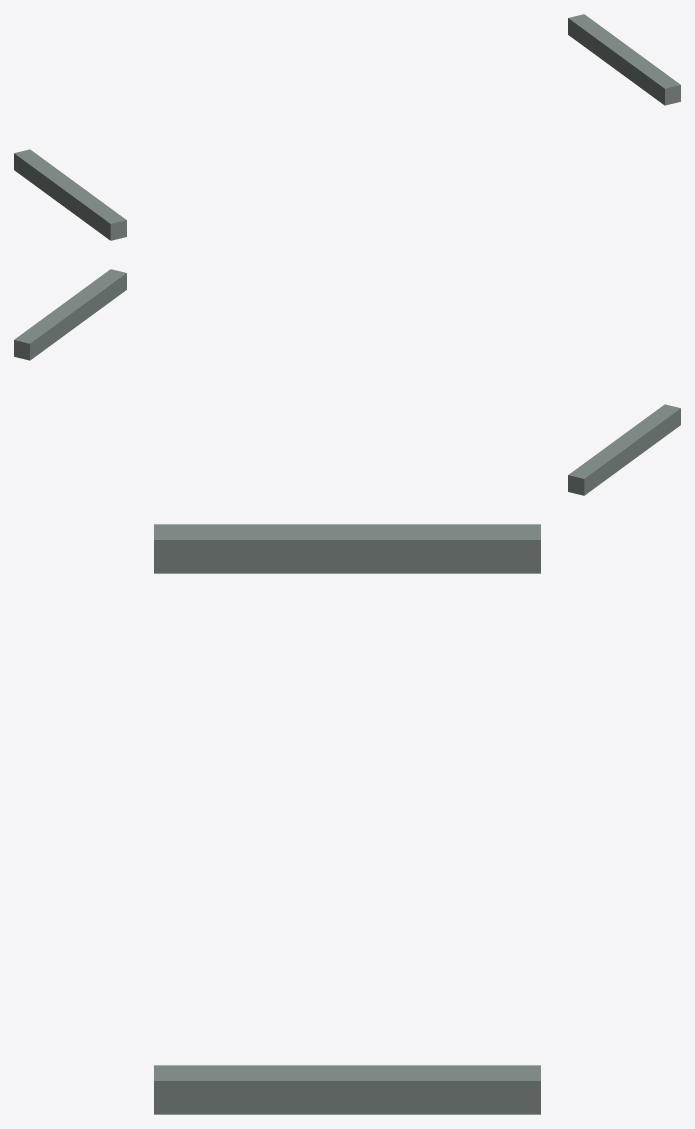
The model's file is Bumper.glb.
The picture shows the model from 3 angles, top to bottom: view 1: azimuth 30°, elevation 25°; view 2: azimuth 150°, elevation 25°; view 3: azimuth 270°, elevation 25°; orthographic projection. The views are drawn at different scales.
Parts seen in each view (by area): view 1: Cube.066; view 2: Cube.066; view 3: Cube.066.
Part boxes in pixels (<box>): Cube.066: <box>14,14,680,240</box>; Cube.066: <box>14,269,680,495</box>; Cube.066: <box>154,524,540,1114</box>.
Bounding box in the file's own units: 0.2284 × 0.00645 × 0.0671.
1 material, 1 textured.
